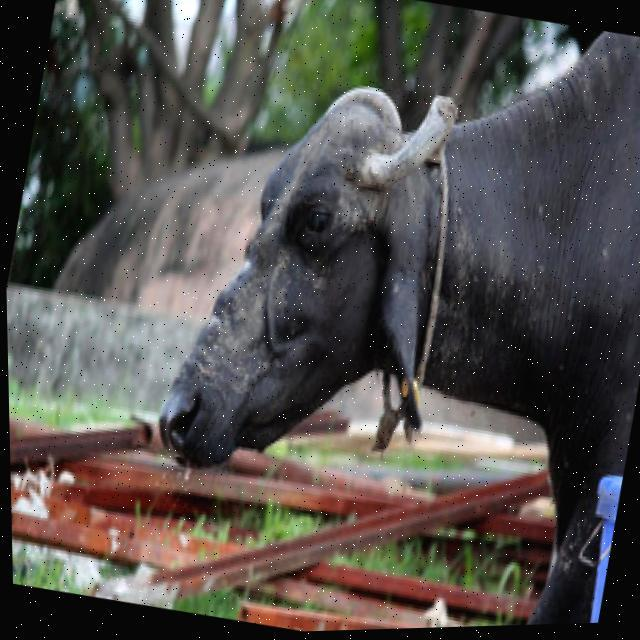Buffalo: (110, 0, 640, 637)
